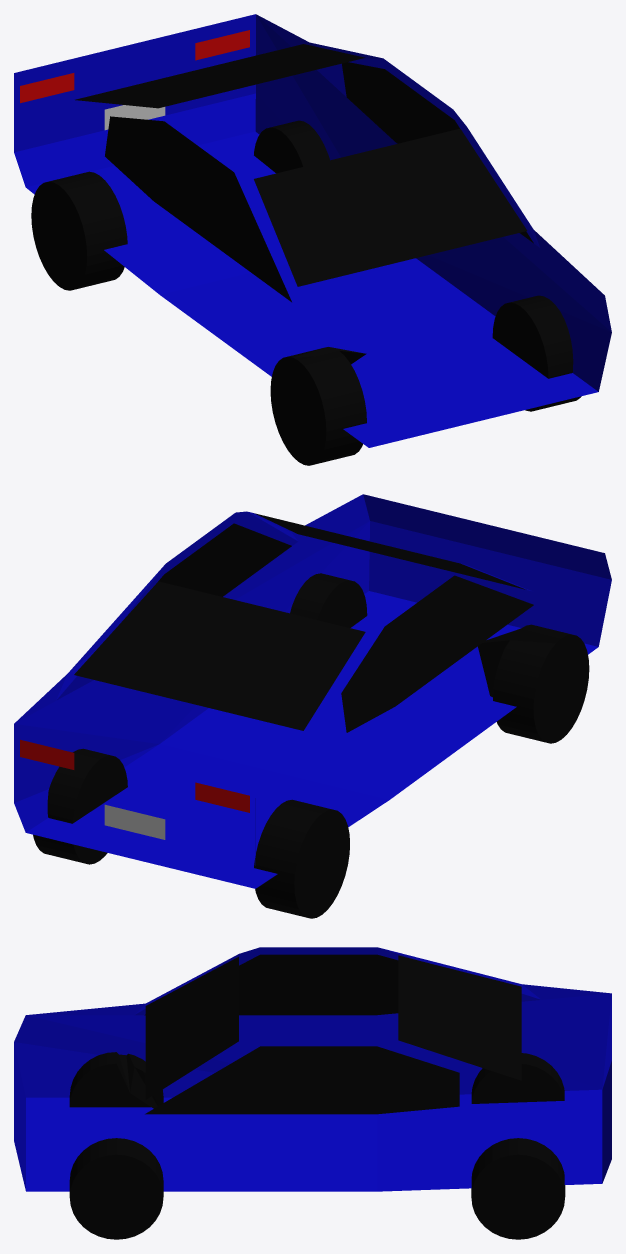
File: bluecarlightobj.obj
The picture shows the model from 3 angles, top to bottom: view 1: azimuth 30°, elevation 25°; view 2: azimuth 150°, elevation 25°; view 3: azimuth 270°, elevation 25°; orthographic projection. The views are drawn at different scales.
Visible parts, largest first — view 1: Cylinder; view 2: Cylinder; view 3: Cylinder.
Part boxes in pixels (x1,y1,x2,y2): Cylinder: (14,14,611,465); Cylinder: (14,494,611,918); Cylinder: (14,947,611,1239).
Size of the model in its own units: 2.17 by 1.83 by 5.1.
